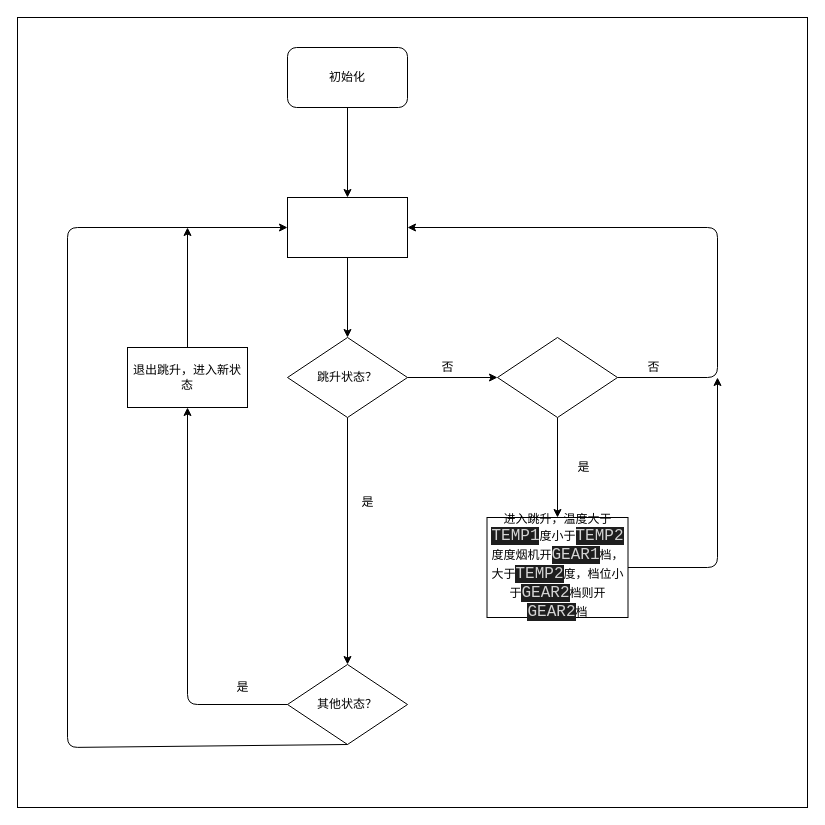
Some shapes in this 825 by 825 pixel diagram are drawn without their labels. The shapes that lost their labels are listed below. From the top down, each one's centre as x and y in pixels, then its label:
point (347, 227): 获取温度
point (557, 377): STATE ？
